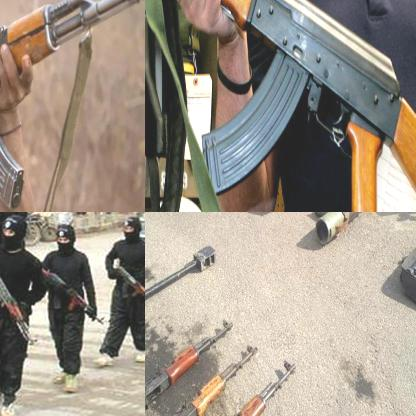rifle: (145, 0, 415, 211), (0, 0, 144, 211), (145, 314, 236, 415), (145, 242, 220, 362), (165, 339, 260, 415), (230, 358, 300, 415), (40, 268, 108, 326), (0, 246, 38, 347), (109, 263, 144, 313)
